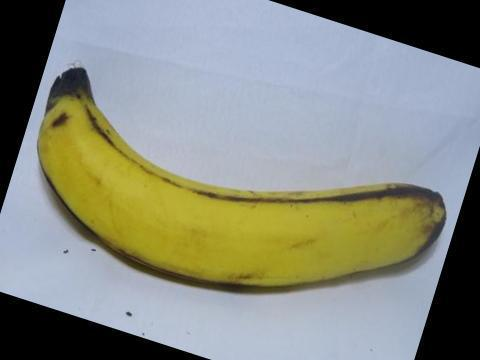ripe: (29, 62, 456, 294)
